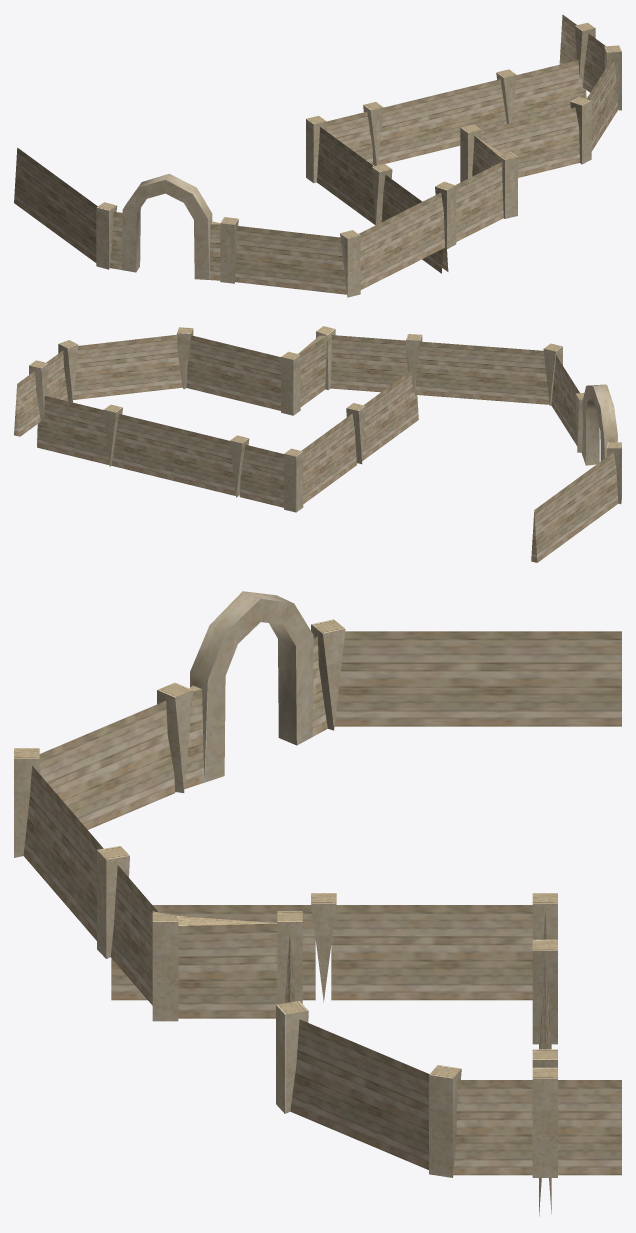
Rendered from poi_nboo_corral_half_64x64_s01_l1.fbx.
The picture shows the model from 3 angles, top to bottom: view 1: azimuth 30°, elevation 25°; view 2: azimuth 150°, elevation 25°; view 3: azimuth 270°, elevation 25°; orthographic projection. The views are drawn at different scales.
Parts seen in each view (by area): view 1: mesh_node; view 2: mesh_node; view 3: mesh_node.
Boxes of the visible parts, x1,y1,x2,y2 form: mesh_node: [14, 15, 621, 297]; mesh_node: [14, 326, 621, 562]; mesh_node: [14, 591, 621, 1216].
Bounding box in the file's own units: 42.57 × 9 × 23.81.
Materials: 1 (1 with a texture image).
